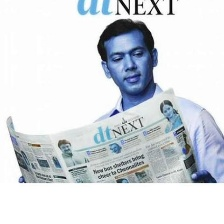news_paper: (2, 83, 205, 184)
